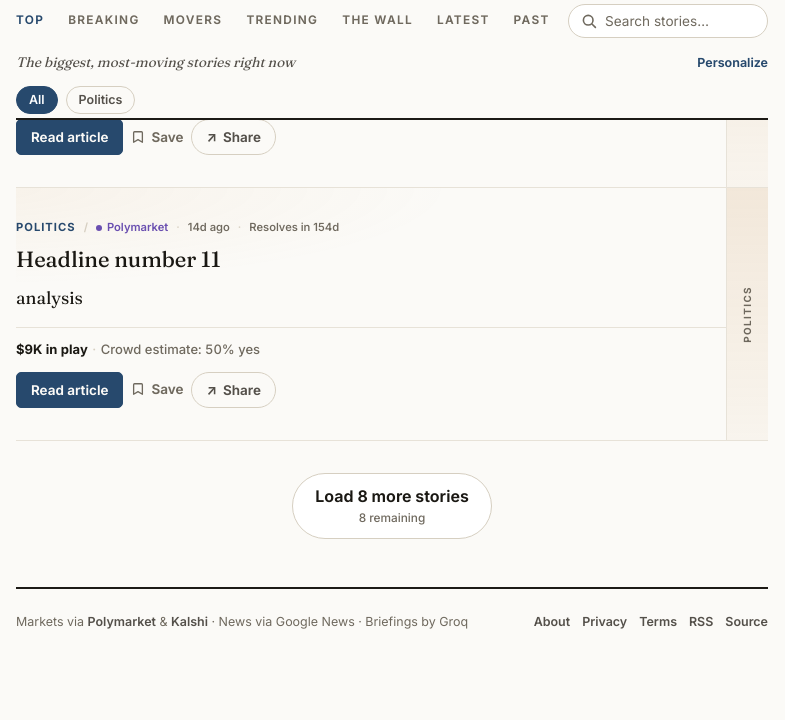
Scenario: App feed windowing (pagination) › renders only the first page, then grows a page at a time until exhausted
(page scrolled)
Step 1. Click the button "Load 8 more stories 8 remaining" → (392, 506), box [292,473,492,539]
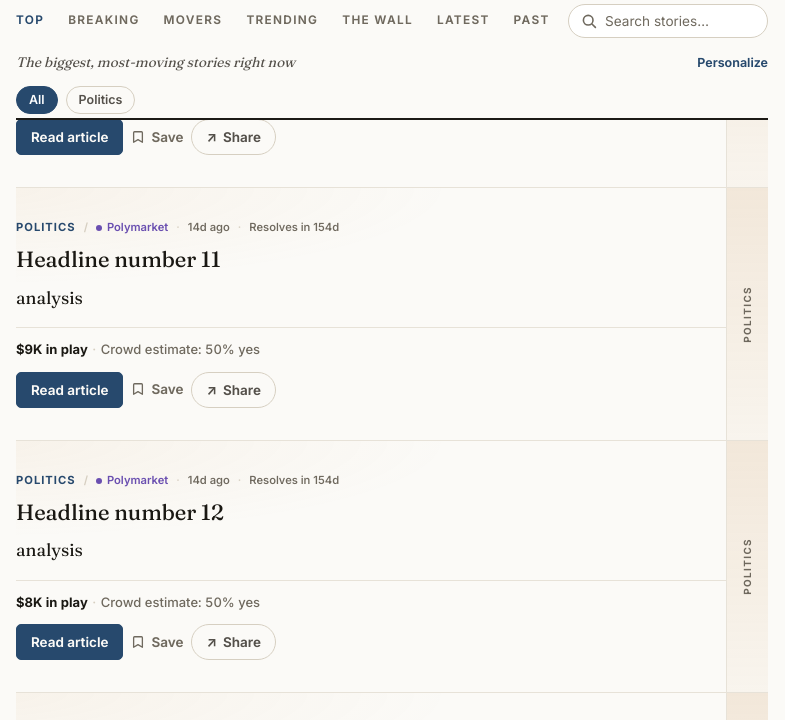
Now the button "Load 8 more stories 8 remaining" is gone
